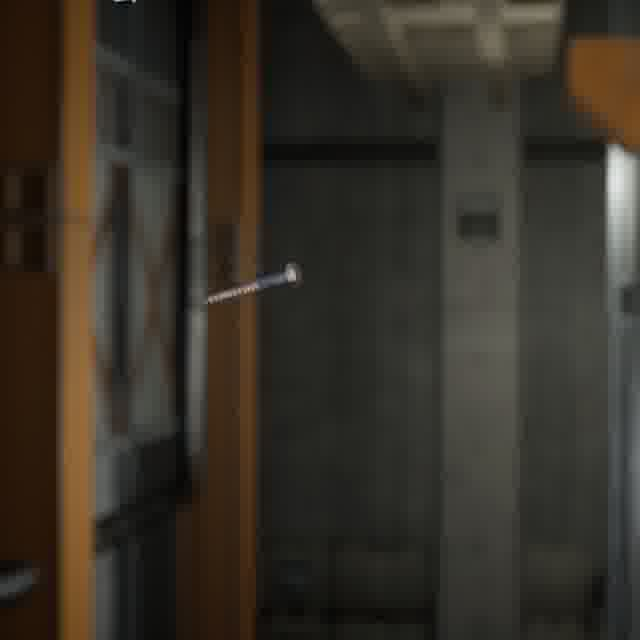bolt: (198, 257, 307, 308)
